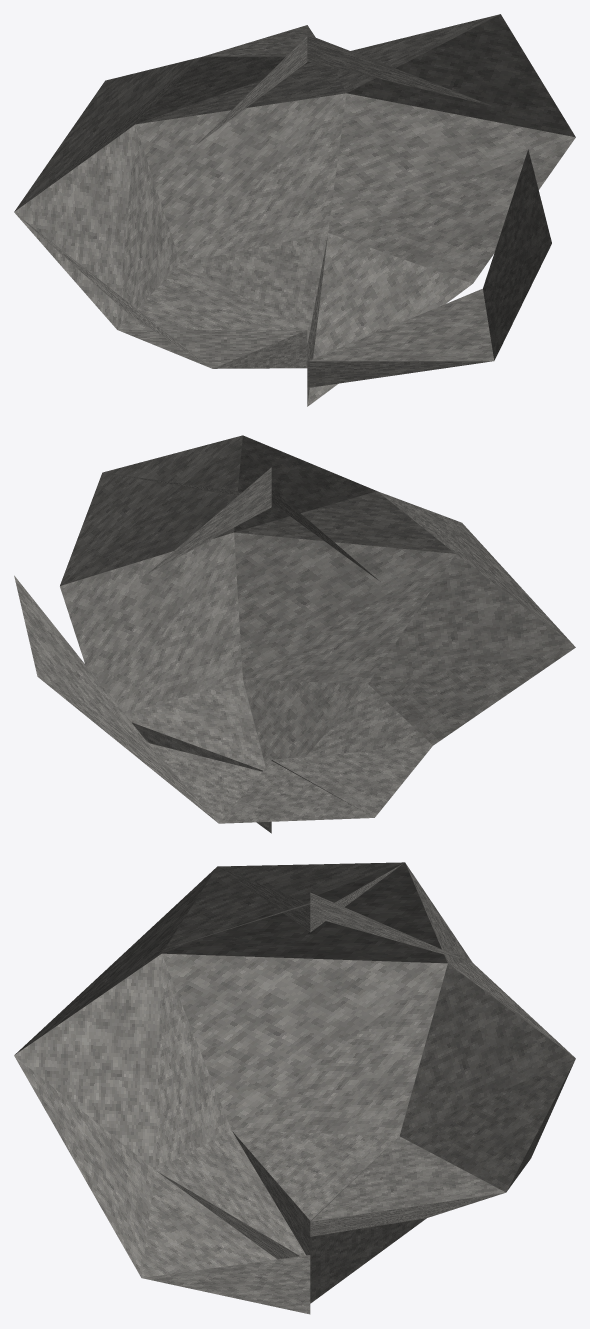
The model's file is rock_04.gltf.
The picture shows the model from 3 angles, top to bottom: view 1: azimuth 30°, elevation 25°; view 2: azimuth 150°, elevation 25°; view 3: azimuth 270°, elevation 25°; orthographic projection. The views are drawn at different scales.
Parts seen in each view (by area): view 1: rock_04; view 2: rock_04; view 3: rock_04.
Part boxes in pixels (x1,y1,x2,y2): rock_04: (14, 14, 575, 406); rock_04: (14, 435, 575, 833); rock_04: (14, 862, 575, 1314).
Size of the model in its own units: 1.37 by 0.9705 by 1.2.
1 material, 1 textured.
